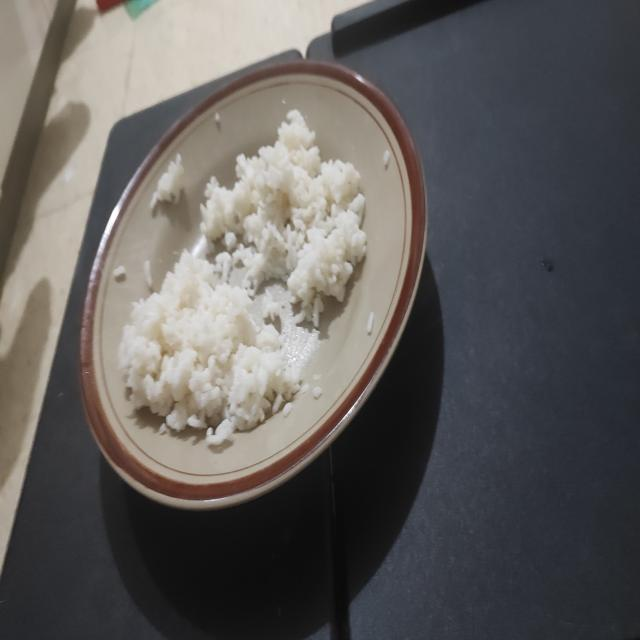nasi_putih: (119, 251, 308, 444), (200, 110, 367, 328)
